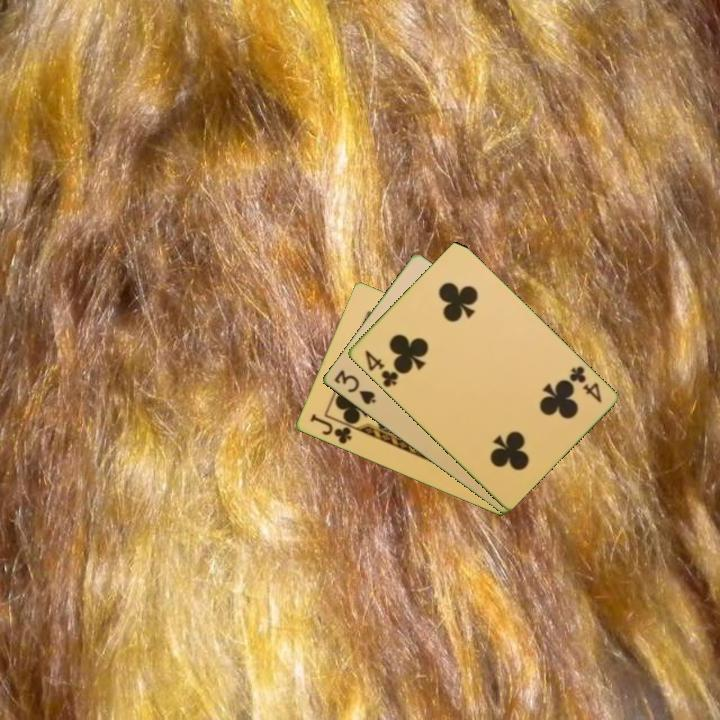3s: (330, 366, 379, 408)
4c: (361, 346, 401, 390), (565, 363, 604, 406)
Jc: (306, 410, 354, 447)
